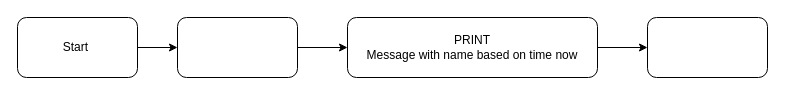
Some shapes in this 785 by 95 pixel diagram are drawn without their labels. Here are the shapes that lost their labels. From the top down, the box of each, then its label:
(176, 16, 298, 78): INPUT: NAVN
(646, 16, 768, 78): END
